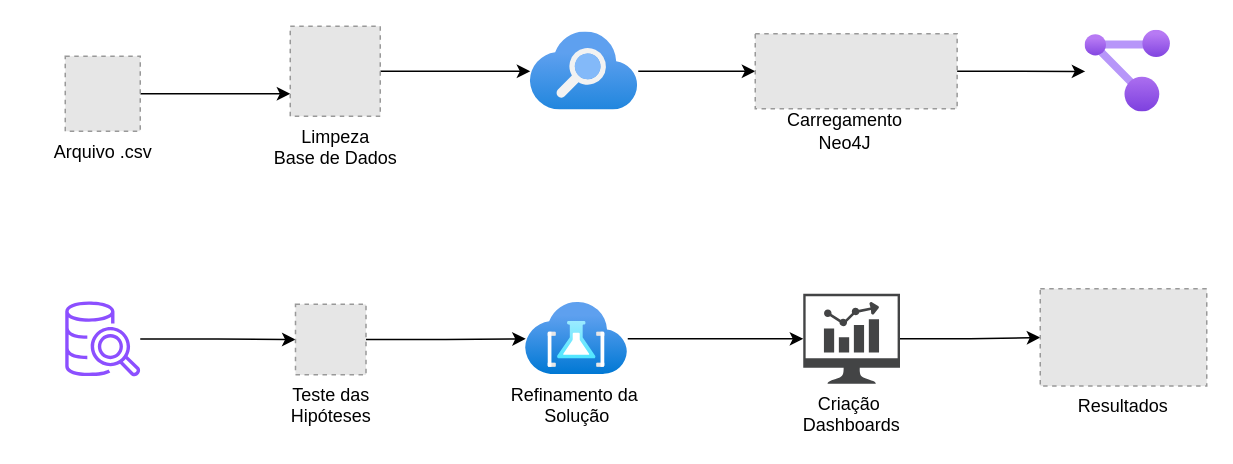
Some shapes in this 1233 by 464 pixel diagram are drawn without their labels. Grey dashed boxes stand in for pictures. Here are the shapes that lost their labels. From the top down, the box of each, then its label:
(530, 32, 638, 110): Enriquecimento Base de Dados
(1084, 30, 1170, 111): Criação dos Relacionamentos
(64, 301, 140, 376): Criação de Queries CIPHER
